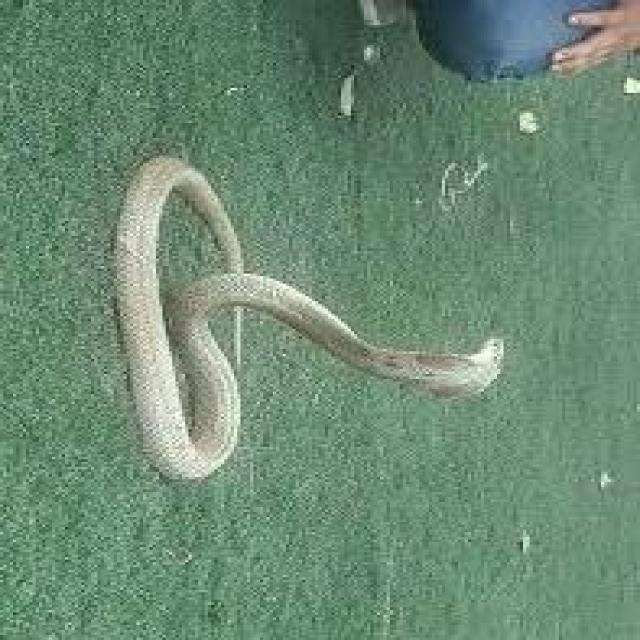Venomous: (402, 326, 532, 433)
